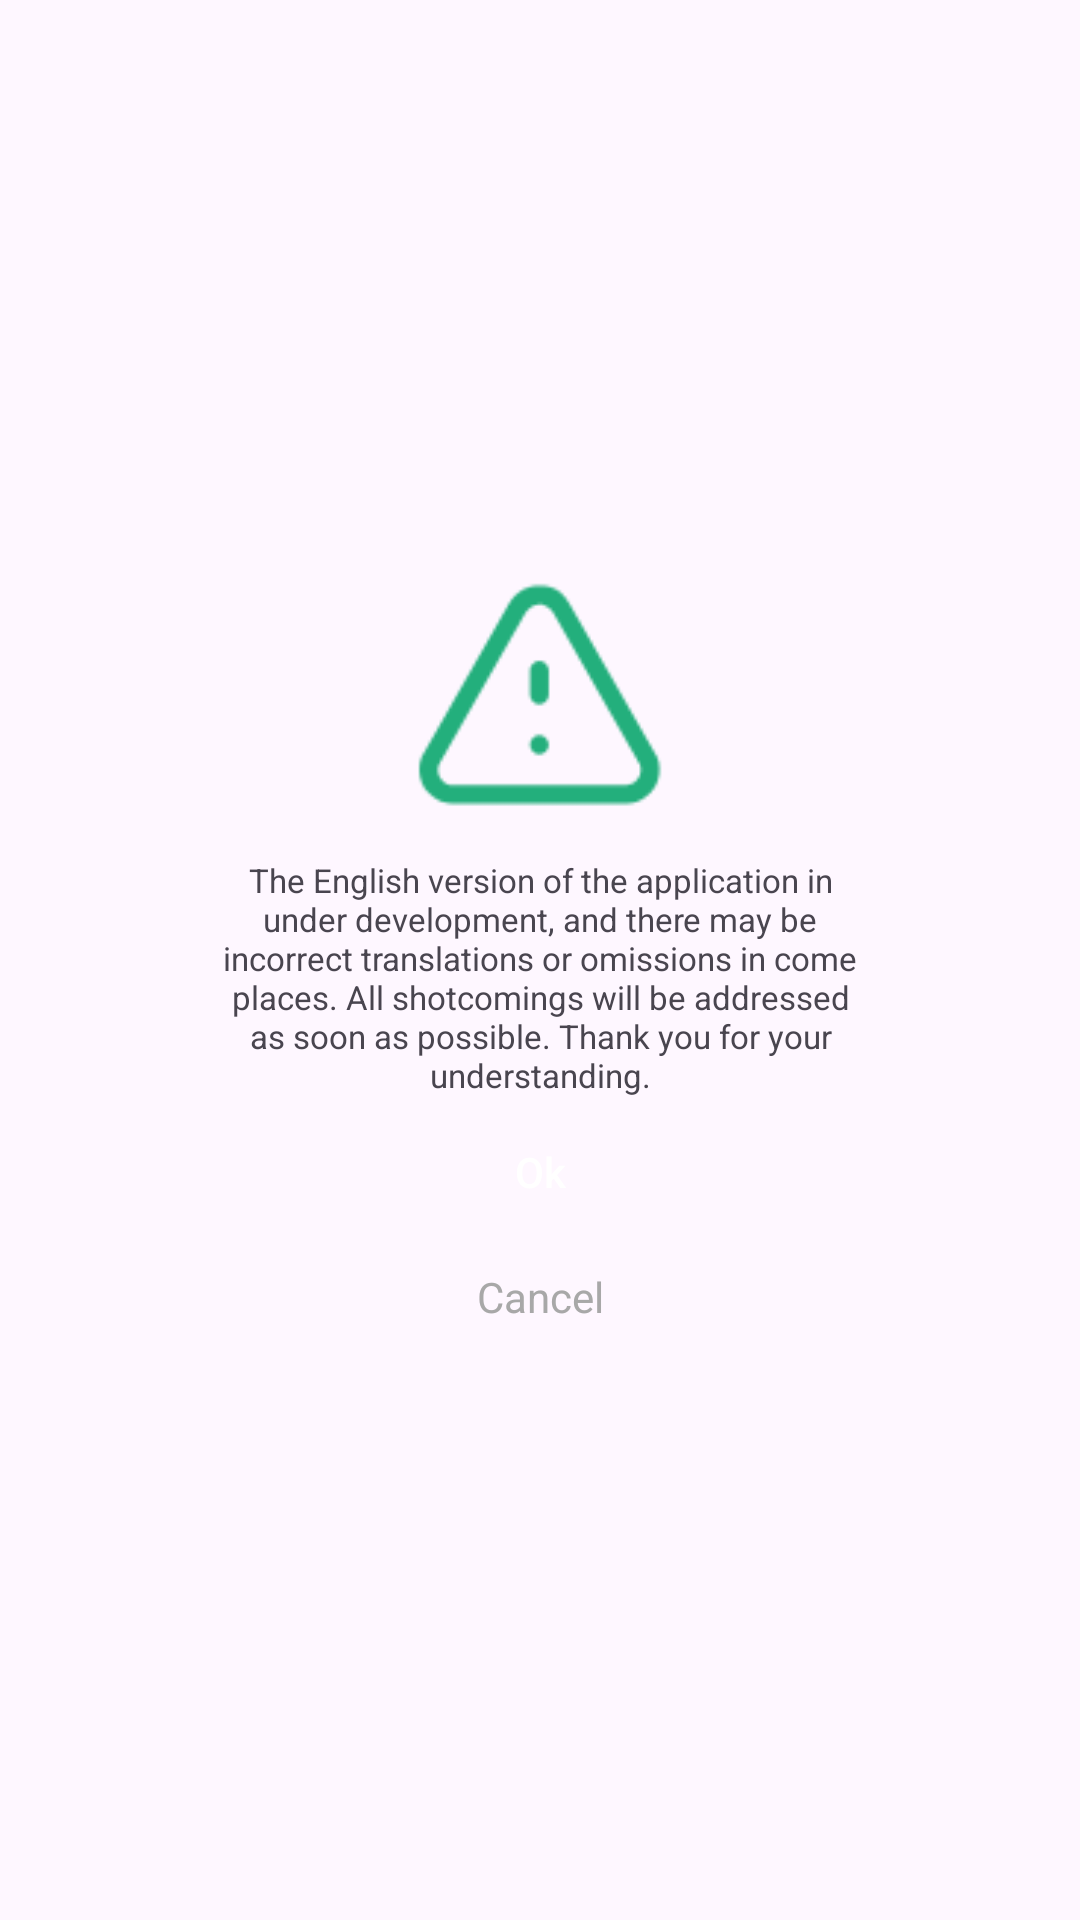

Screen size 1080*1920. Icon name, then its center in pixels as (x=x, y=y):
attention: (x=540, y=695)
